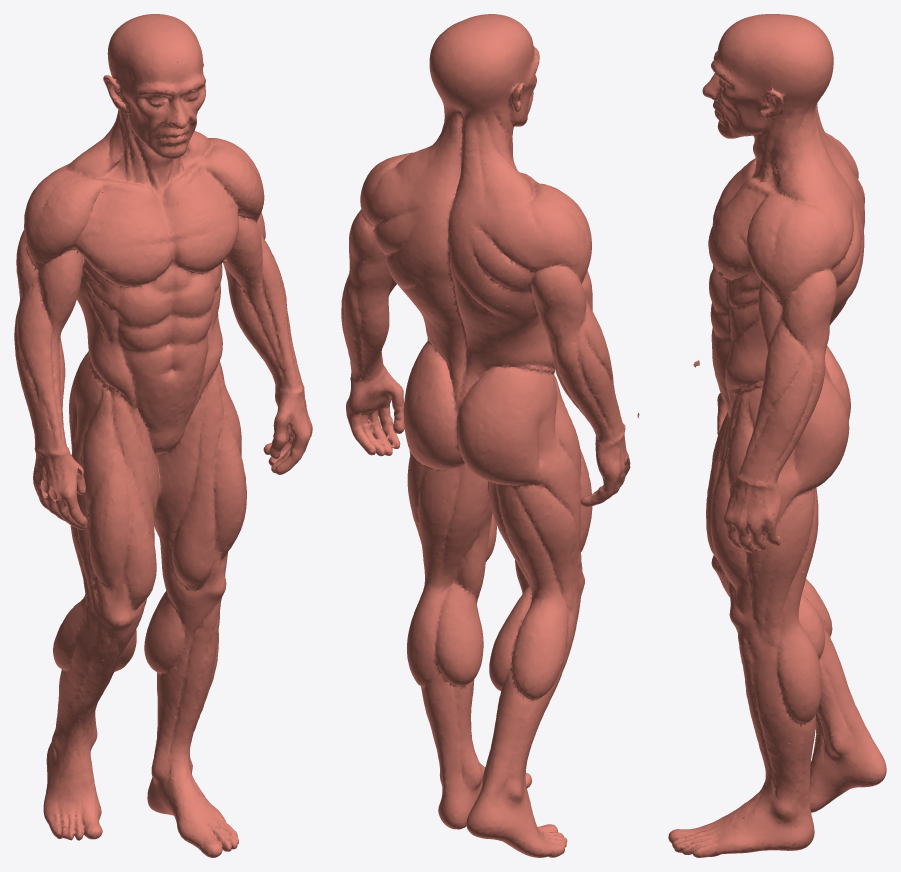
The model's file is muscles.glb.
The picture shows the model from 3 angles, left to right: view 1: azimuth 30°, elevation 25°; view 2: azimuth 150°, elevation 25°; view 3: azimuth 270°, elevation 25°; orthographic projection. The views are drawn at different scales.
Parts seen in each view (by area): view 1: tmpx4f9hxdc.ply_material_0_0; view 2: tmpx4f9hxdc.ply_material_0_0; view 3: tmpx4f9hxdc.ply_material_0_0.
Part boxes in pixels (left/top/right/bottom): tmpx4f9hxdc.ply_material_0_0: left=14, top=14, right=312, bottom=857; tmpx4f9hxdc.ply_material_0_0: left=341, top=14, right=639, bottom=857; tmpx4f9hxdc.ply_material_0_0: left=668, top=14, right=886, bottom=857.
Size of the model in its own units: 1.31 by 3.7 by 0.8902.
